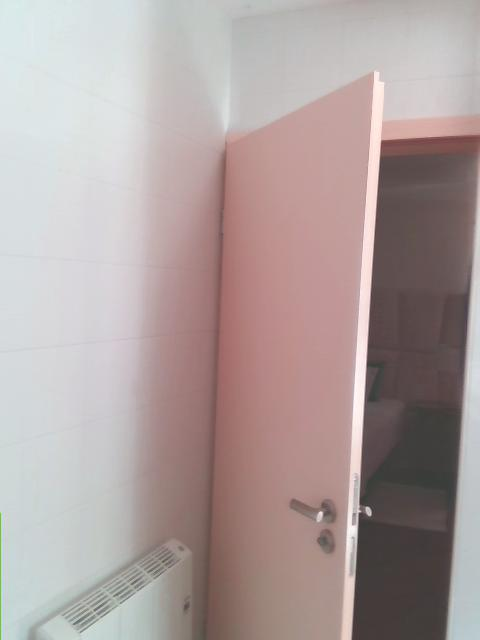semi_door: (203, 68, 479, 639)
